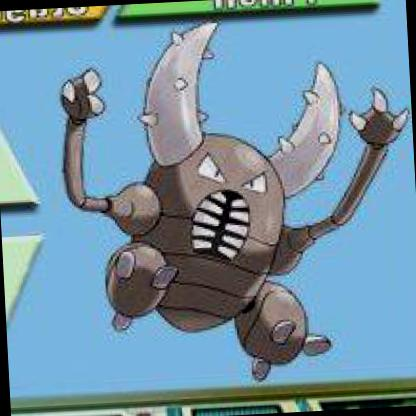Pinsir: (0, 0, 414, 415)
